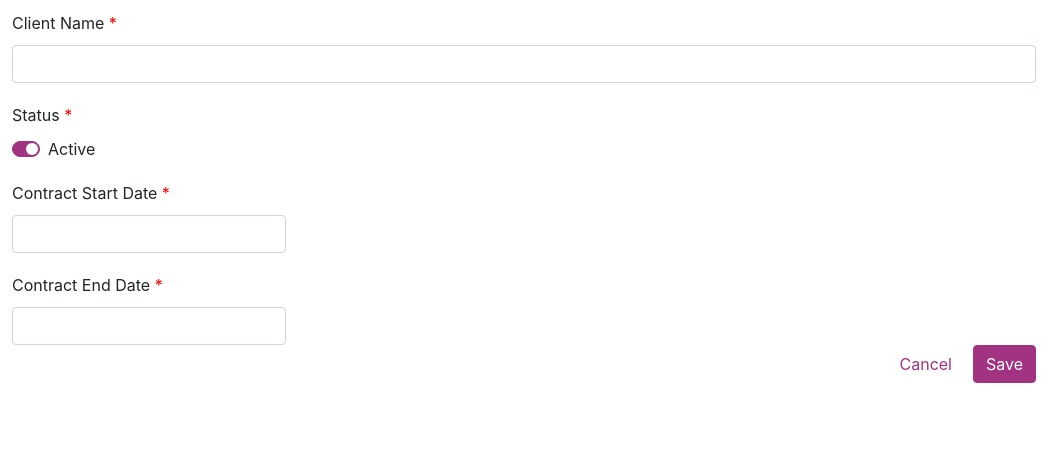
clientForm validate empty form
Click the button with test id "saveButton" at (1004, 364), box [973,345,1036,383]
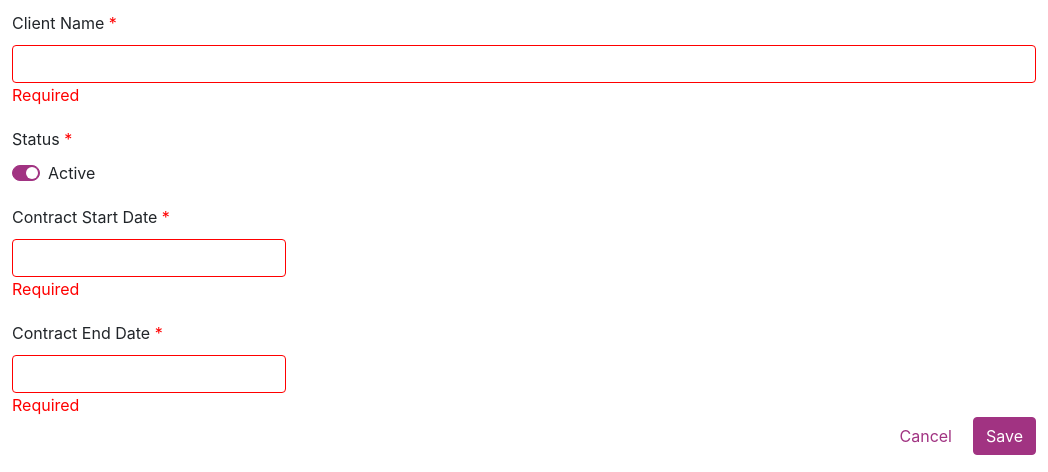
Check: the text "Required" is shown 3 times, box [12,85,79,105]; [12,279,79,299]; [12,395,79,415]
